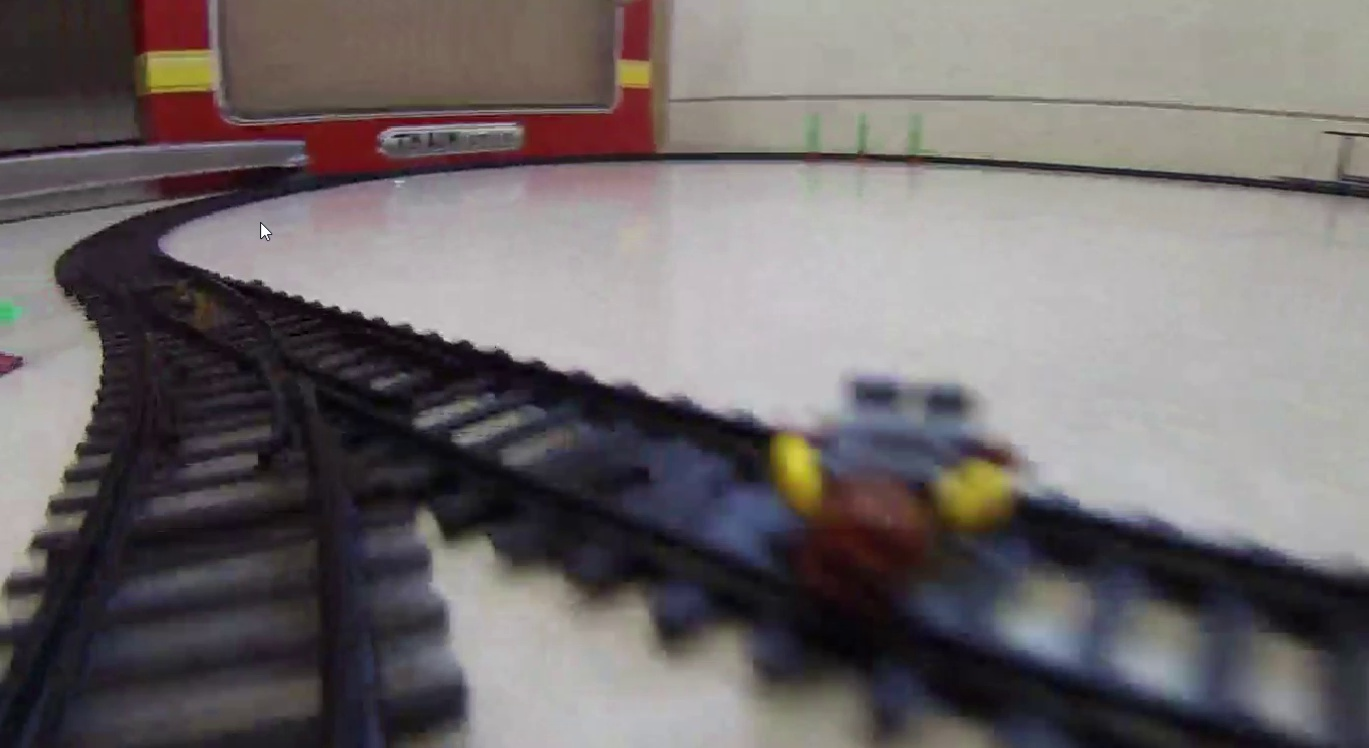people: (767, 369, 1027, 599)
